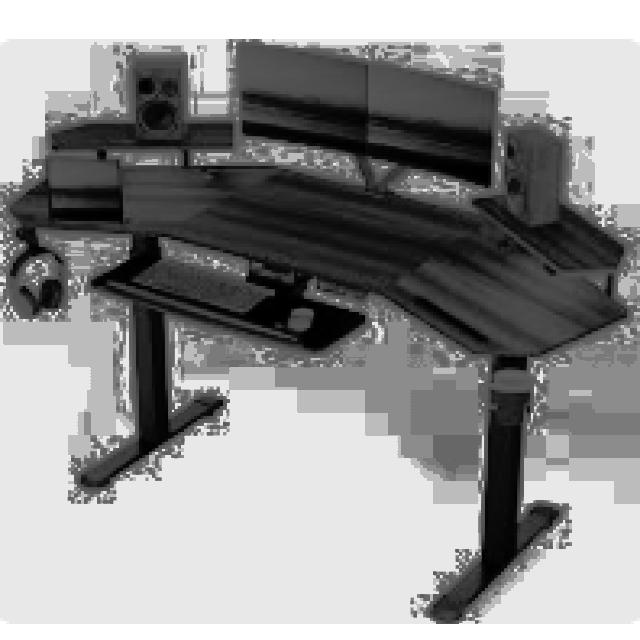table: (7, 150, 627, 620)
